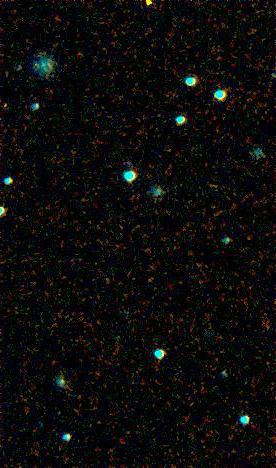star: (135, 0, 165, 21)
